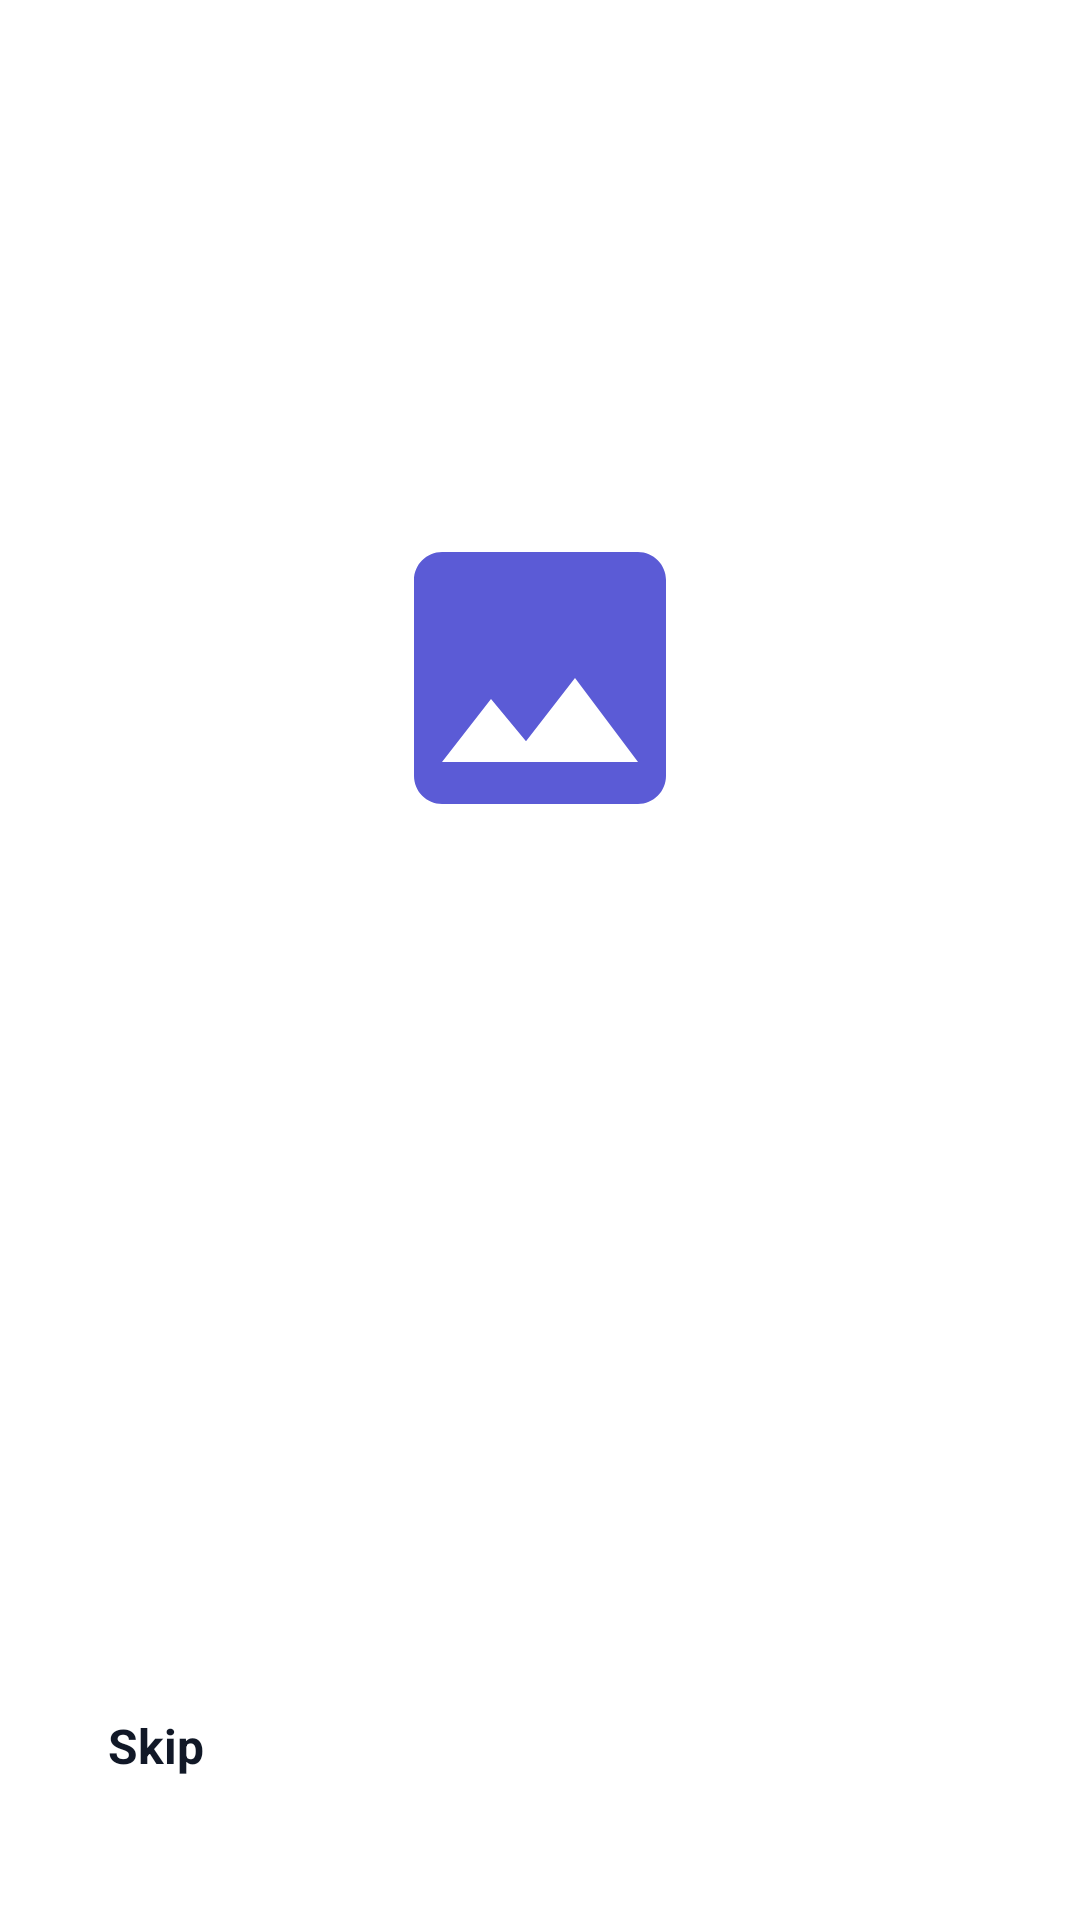

Where to tap for icons on this 1080w x 1920h app screen, as [x,y]:
Screen image: [540,678]
